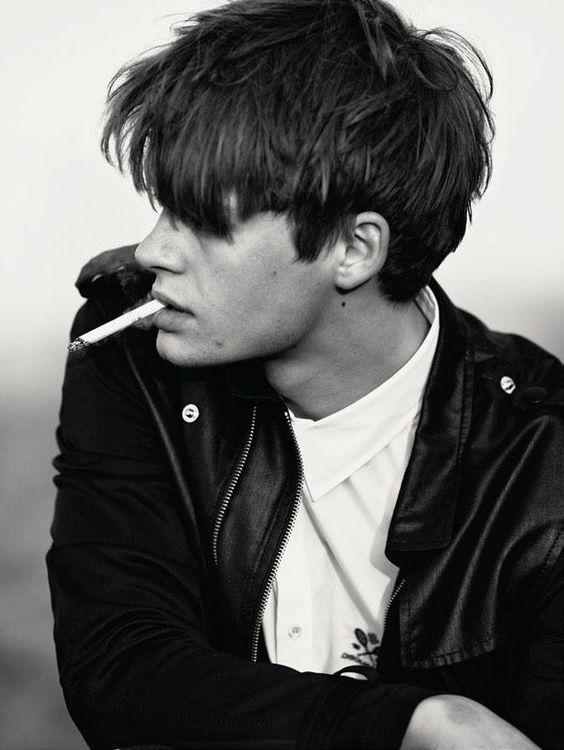cigarette: (66, 299, 167, 352)
